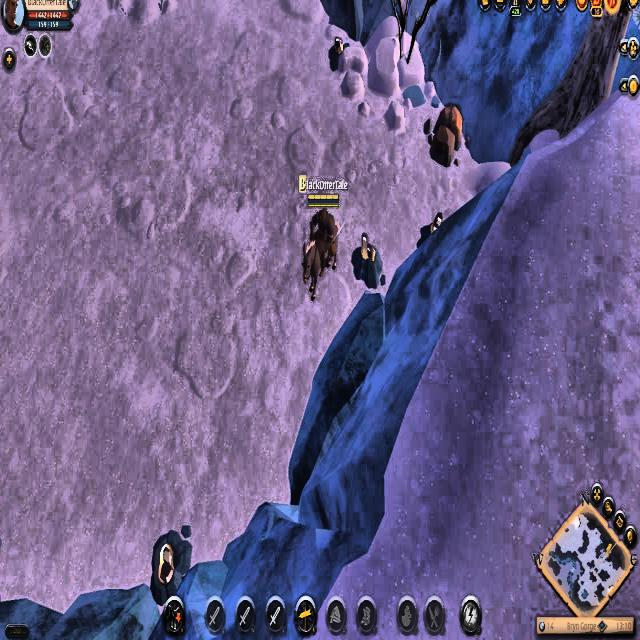copperore: (349, 231, 385, 285), (414, 208, 445, 238), (326, 34, 351, 64)
limestone: (428, 101, 462, 161)
